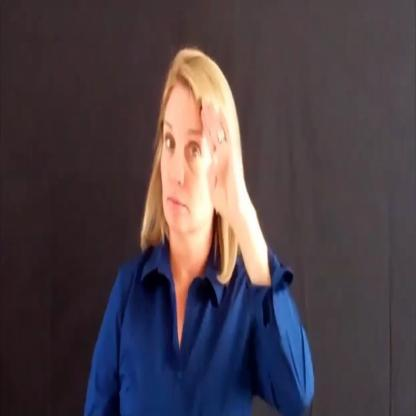Hello: (151, 17, 259, 306)
